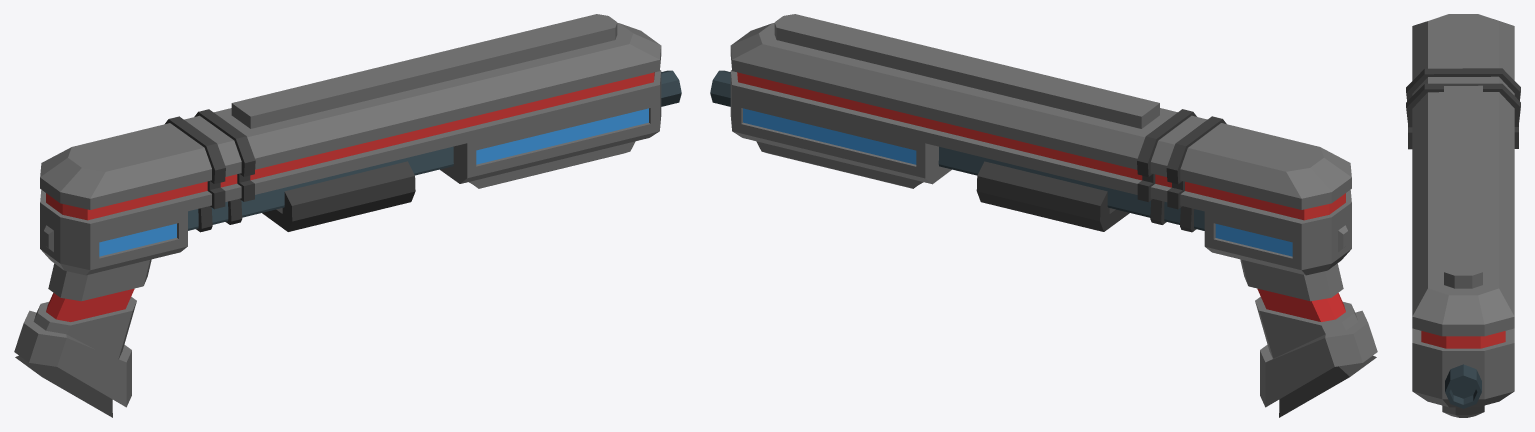
Rendered from Shotgun.fbx.
3 views of the same model, side by side, from view 1: azimuth 30°, elevation 25°; view 2: azimuth 150°, elevation 25°; view 3: azimuth 270°, elevation 25° (orthographic). The views are drawn at different scales.
Parts seen in each view (by area): view 1: Shotgun; view 2: Shotgun; view 3: Shotgun.
Boxes of the visible parts, x1=… form: Shotgun: x1=14, y1=14, x2=681, y2=417; Shotgun: x1=710, y1=14, x2=1377, y2=417; Shotgun: x1=1406, y1=14, x2=1520, y2=417.
Bounding box in the file's own units: 205 × 79.42 × 29.94.
